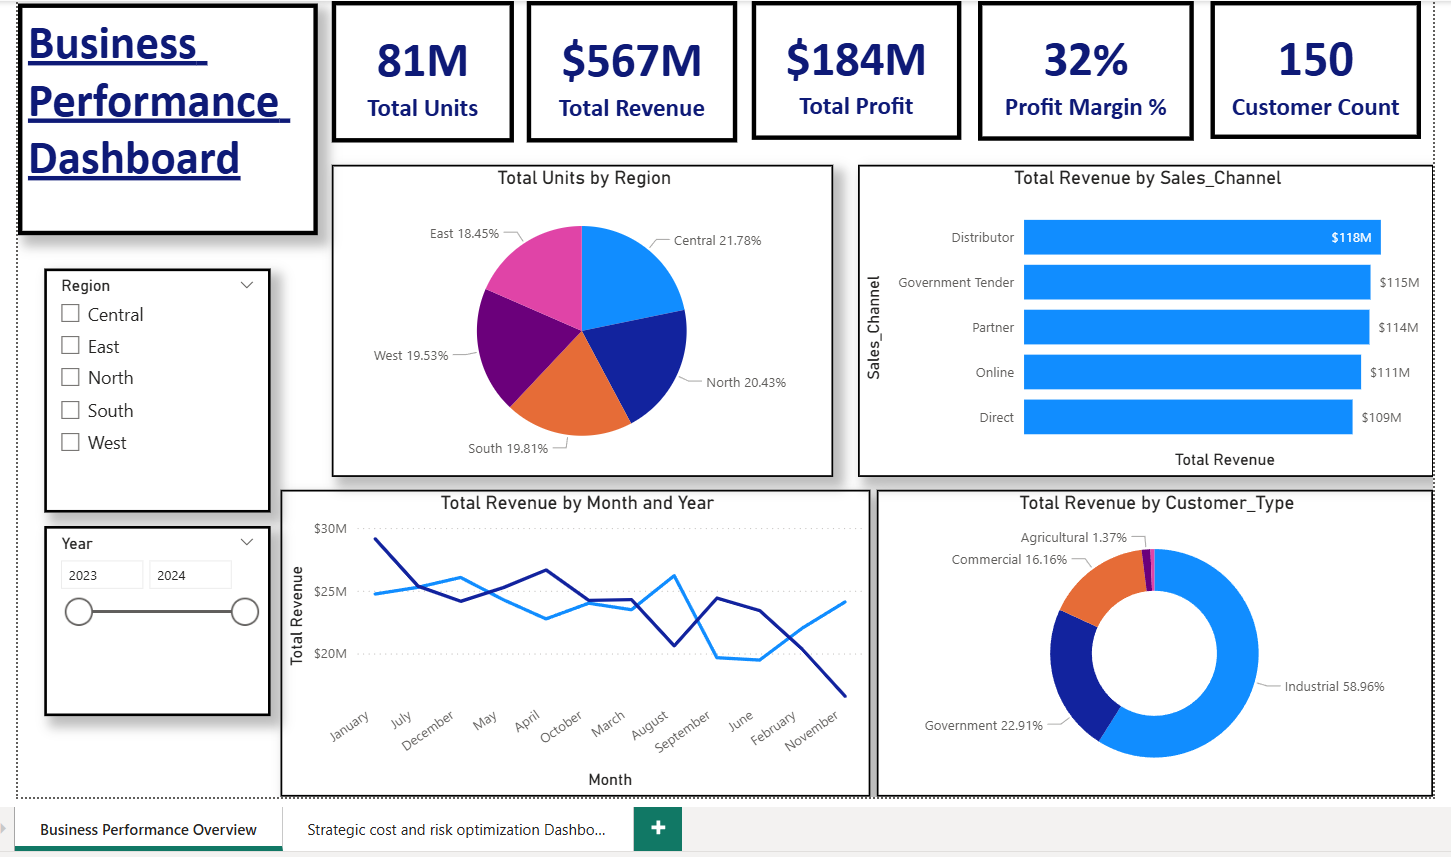

This screenshot's page, from the dashboard's own definition file:
{"tool":"powerbi","page":{"name":"Business Performance Overview","canvas":[1280,720],"ordinal":0},"visuals":[{"type":"card","fields":{"Values":["Commercial_Data (2).Total Revenue"]},"box":[460.5,0,190.7,127.9],"z":0},{"type":"card","fields":{"Values":["Commercial_Data (2).Total Profit"]},"box":[664,0,189.5,125.6],"z":1000},{"type":"card","fields":{"Values":["Commercial_Data (2).Profit Margin %"]},"box":[868.6,0,195.3,126.7],"z":2000},{"type":"card","fields":{"Values":["Commercial_Data (2).Customer Count"]},"box":[1079.1,0,190.7,124.4],"z":3000},{"type":"lineChart","fields":{"Y":["Commercial_Data (2).Total Revenue"],"Series":["Commercial_Data (2).Year"],"Category":["Month_Table.Month"]},"box":[237.2,441.9,533.7,277.9],"z":4000},{"type":"donutChart","fields":{"Category":["Commercial_Data (2).Customer_Type"],"Y":["Commercial_Data (2).Total Revenue"]},"box":[776.7,441.9,503.5,277.9],"z":5000},{"type":"barChart","fields":{"Category":["Commercial_Data (2).Sales_Channel"],"Y":["Commercial_Data (2).Total Revenue"]},"box":[759.3,147.7,520.9,282.6],"z":6000},{"type":"pieChart","fields":{"Category":["Commercial_Data (2).Region"],"Y":["Commercial_Data (2).Total Units"]},"box":[283.7,147.7,453.5,282.6],"z":7000},{"type":"slicer","fields":{"Values":["Commercial_Data (2).Region"]},"box":[23.3,241.9,204.7,220.9],"z":8000},{"type":"slicer","fields":{"Values":["Commercial_Data (2).Year"]},"box":[23.3,474.4,204.7,172.1],"z":9000},{"type":"textbox","box":[0,2.3,270.9,209.3],"z":10000},{"type":"card","fields":{"Values":["Measure table.Total Units"]},"box":[283.7,0,165.1,127.9],"z":11000}]}

Visuals, with their boxes in screenshot pixels (x1, y1, x2, y2):
card - Commercial_Data (2).Total Revenue: x1=526 y1=0 x2=739 y2=139
card - Commercial_Data (2).Total Profit: x1=754 y1=0 x2=965 y2=137
card - Commercial_Data (2).Profit Margin %: x1=982 y1=0 x2=1201 y2=138
card - Commercial_Data (2).Customer Count: x1=1218 y1=0 x2=1431 y2=135
lineChart - Commercial_Data (2).Total Revenue x Commercial_Data (2).Year: x1=277 y1=490 x2=873 y2=801
donutChart - Commercial_Data (2).Customer_Type x Commercial_Data (2).Total Revenue: x1=880 y1=490 x2=1443 y2=801
barChart - Commercial_Data (2).Sales_Channel x Commercial_Data (2).Total Revenue: x1=860 y1=161 x2=1443 y2=477
pieChart - Commercial_Data (2).Region x Commercial_Data (2).Total Units: x1=328 y1=161 x2=835 y2=477
slicer - Commercial_Data (2).Region: x1=37 y1=267 x2=266 y2=514
slicer - Commercial_Data (2).Year: x1=37 y1=527 x2=266 y2=719
textbox: x1=11 y1=0 x2=314 y2=233
card - Measure table.Total Units: x1=328 y1=0 x2=513 y2=139
